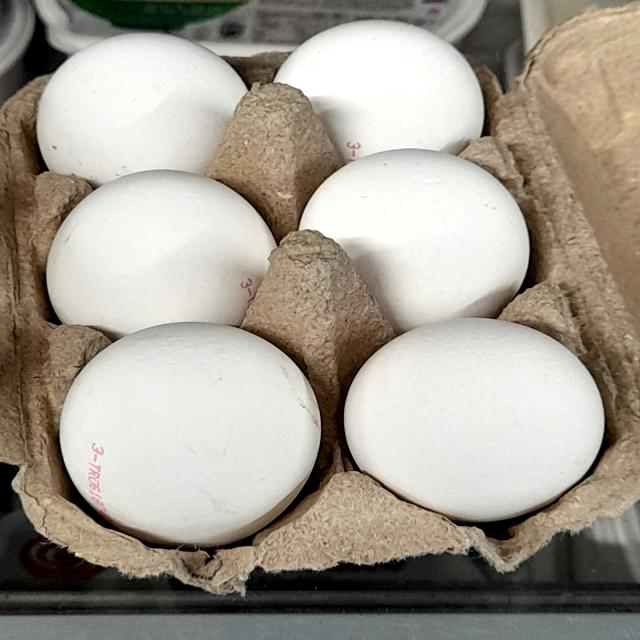egg: (44, 311, 359, 555), (334, 313, 630, 527), (292, 139, 549, 322), (32, 159, 292, 330), (266, 8, 502, 167), (44, 26, 249, 194)
